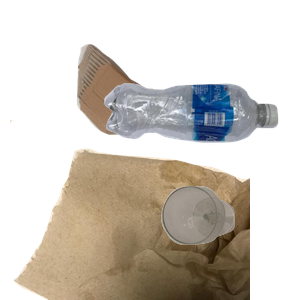cardboard: (74, 42, 225, 170)
glass: (159, 184, 300, 300)
plastic: (102, 81, 300, 216)
trash: (10, 120, 250, 300)
